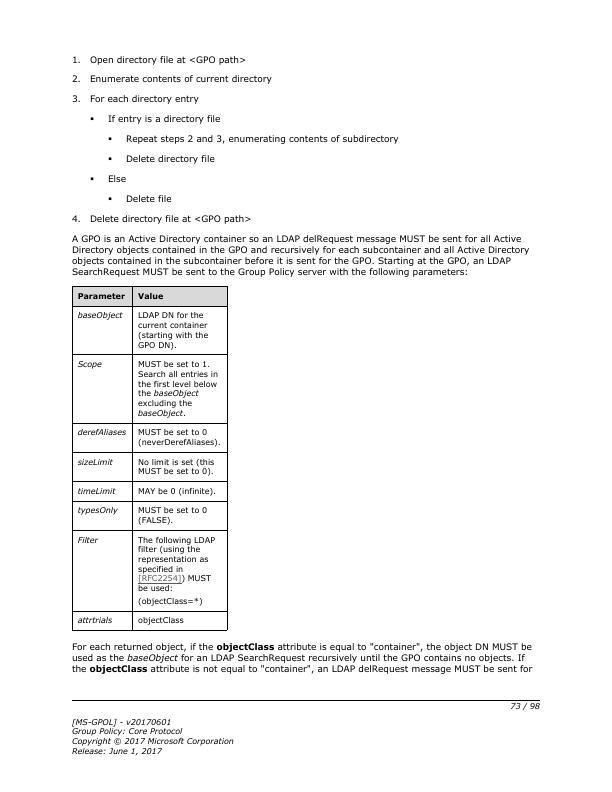table: (71, 286, 229, 632)
text: (70, 232, 531, 279), (68, 640, 534, 679), (68, 714, 238, 756), (124, 132, 403, 147), (70, 53, 249, 67), (70, 73, 274, 85), (69, 213, 254, 225), (70, 91, 201, 106), (104, 112, 224, 127), (123, 153, 221, 167), (123, 192, 173, 206), (107, 173, 127, 184)
